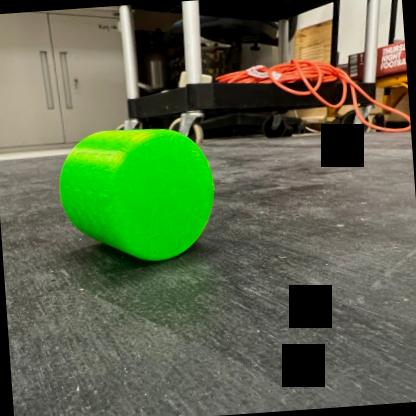green cylinder: (52, 118, 224, 272)
